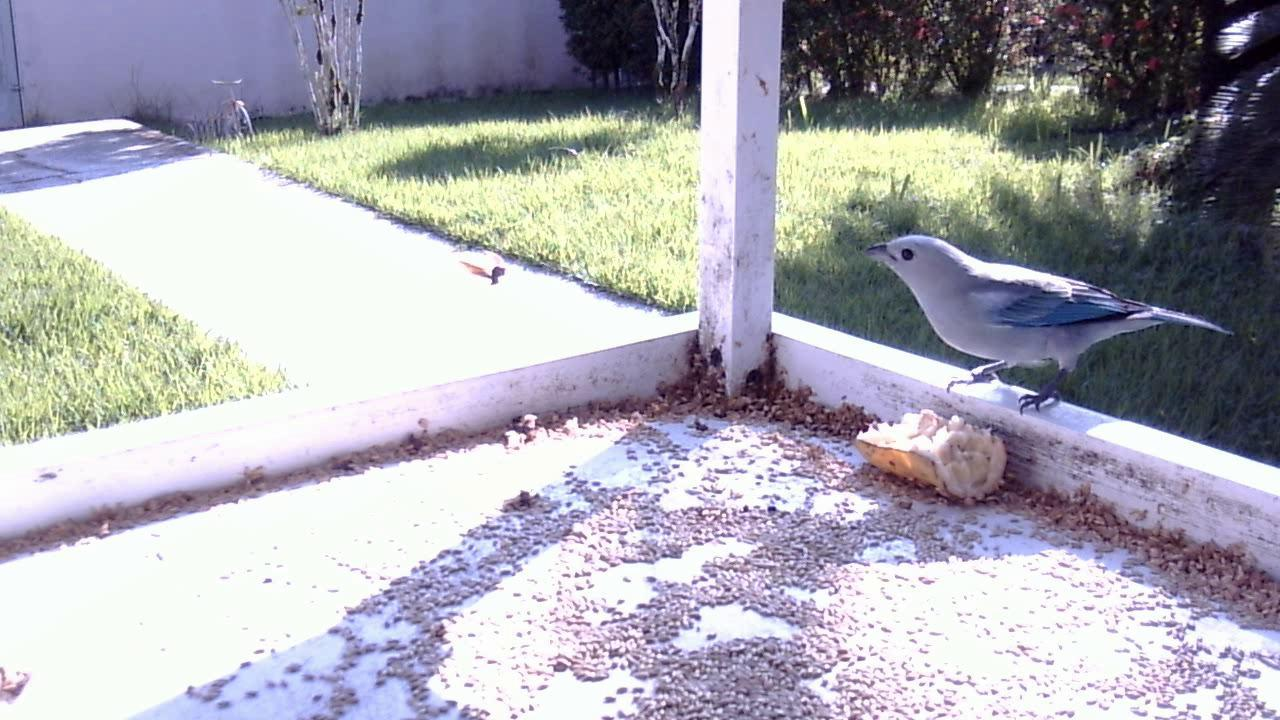sanhaco_da_amazonia: (854, 226, 1234, 423)
